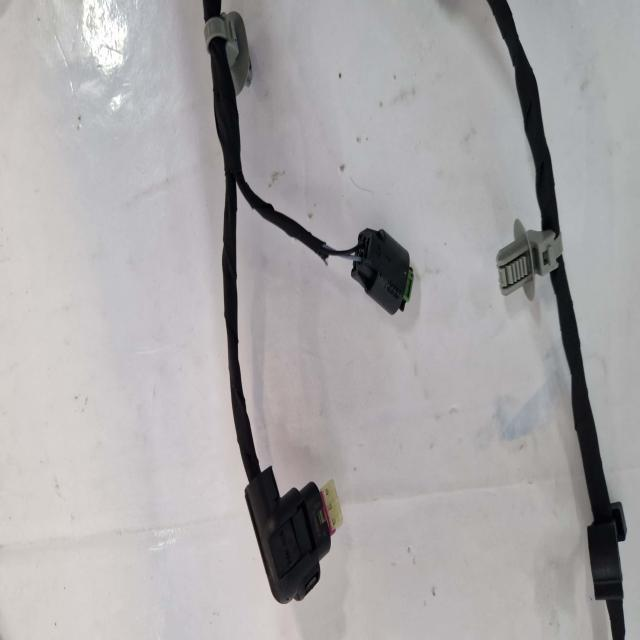Clip: (498, 221, 558, 297), (208, 11, 254, 91), (588, 505, 627, 594)
Connector: (248, 472, 340, 601), (354, 231, 412, 311)
Gape: (318, 227, 358, 267)
MHEV_N11_Cable: (209, 0, 330, 471), (449, 0, 566, 253), (550, 246, 618, 510)
